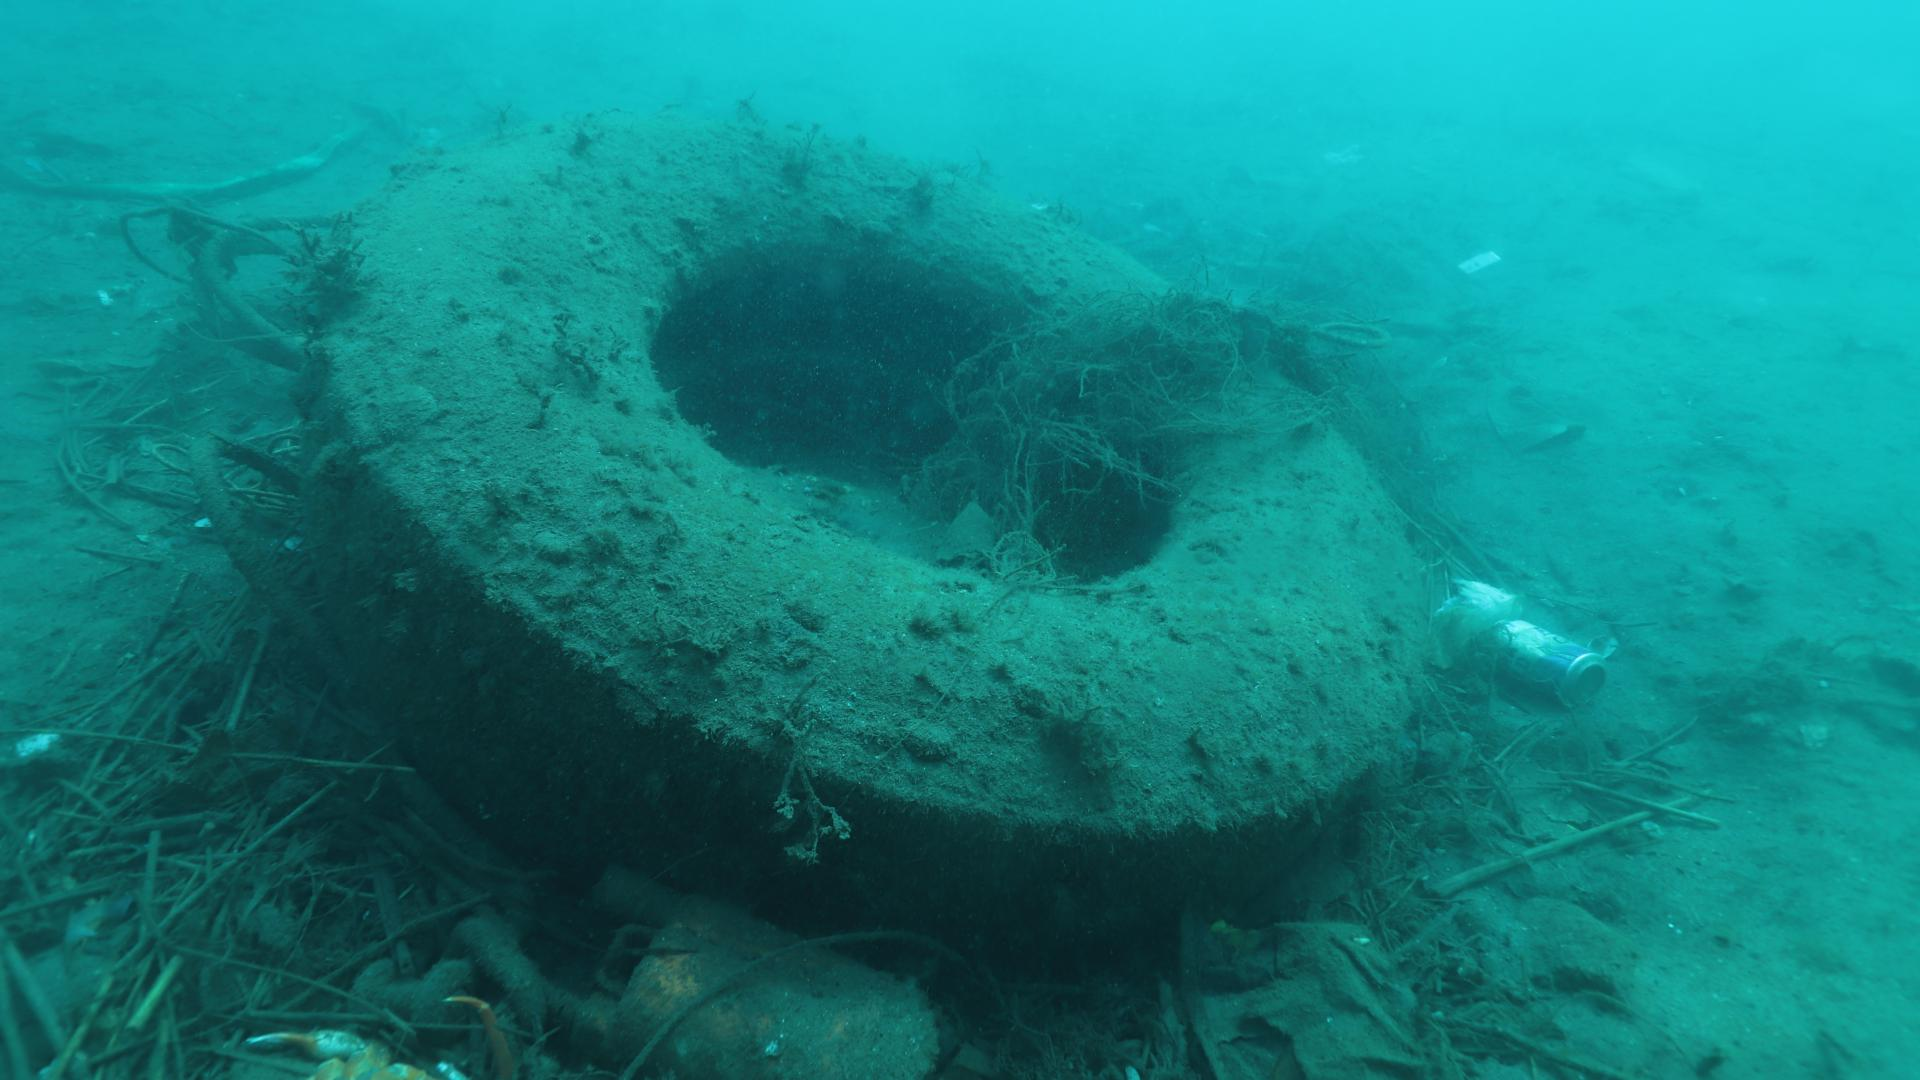tire: (306, 111, 1429, 977)
